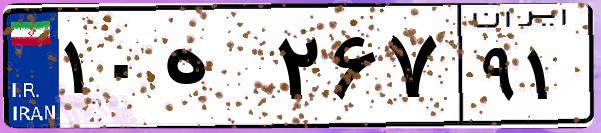0: (110, 28, 158, 98)
1: (57, 26, 110, 100), (525, 38, 570, 115)
2: (270, 28, 330, 110)
6: (330, 28, 385, 110)
7: (385, 28, 445, 110)
9: (475, 38, 525, 113)
ه: (158, 20, 270, 120)
